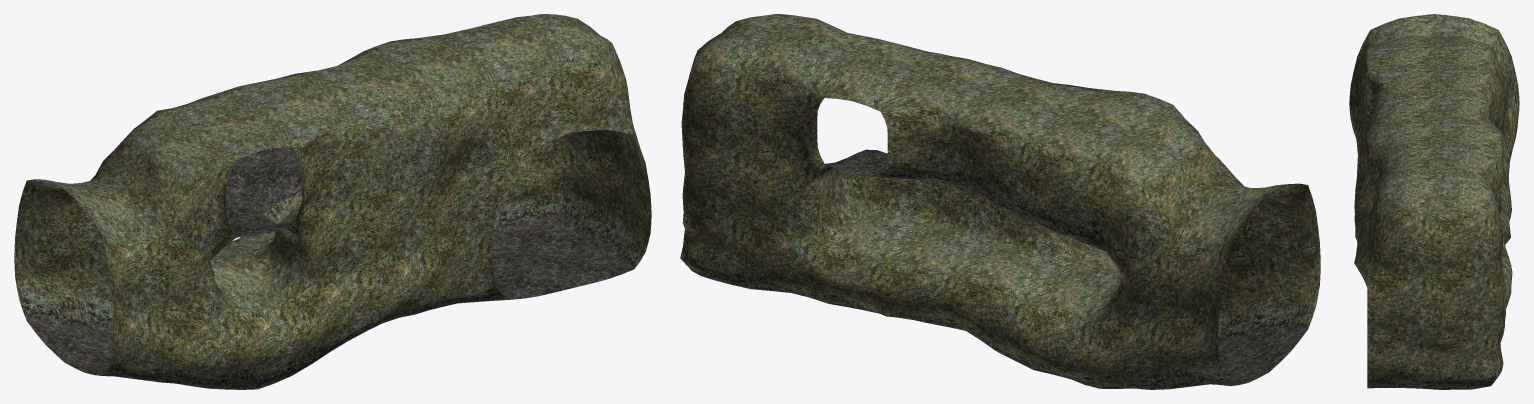
Rendered from thm_all_cave_s03_damprock_mirror_r6_r6.fbx.
The picture shows the model from 3 angles, left to right: view 1: azimuth 30°, elevation 25°; view 2: azimuth 150°, elevation 25°; view 3: azimuth 270°, elevation 25°; orthographic projection. The views are drawn at different scales.
Visible parts, largest first — view 1: mesh_node; view 2: mesh_node; view 3: mesh_node.
Part boxes in pixels (<box>): mesh_node: <box>14,14,651,389</box>; mesh_node: <box>680,14,1320,389</box>; mesh_node: <box>1349,14,1519,389</box>.
Bounding box in the file's own units: 65.18 × 29.36 × 20.28.
